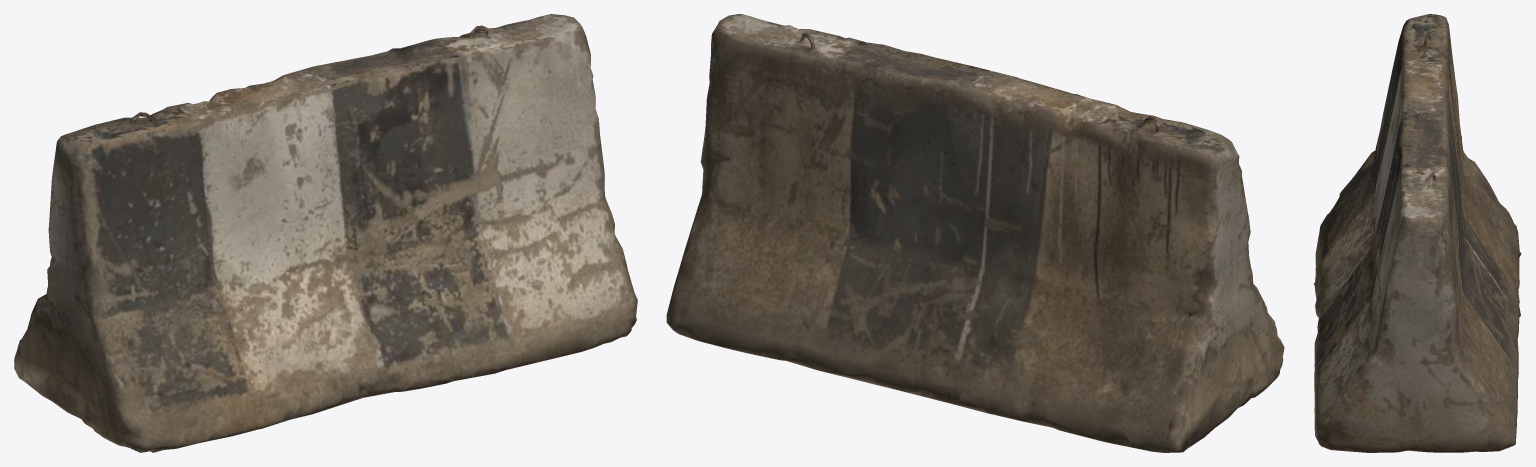
Rendered from road_barrier.glb.
3 views of the same model, side by side, from view 1: azimuth 30°, elevation 25°; view 2: azimuth 150°, elevation 25°; view 3: azimuth 270°, elevation 25° (orthographic). The views are drawn at different scales.
Parts seen in each view (by area): view 1: concrete_road_barrier; view 2: concrete_road_barrier; view 3: concrete_road_barrier.
Part boxes in pixels (x1=…): concrete_road_barrier: x1=14, y1=14, x2=637, y2=452; concrete_road_barrier: x1=666, y1=14, x2=1284, y2=452; concrete_road_barrier: x1=1313, y1=14, x2=1521, y2=452.
Bounding box in the file's own units: 1.54 × 0.8303 × 0.6386.
1 material, 1 textured.
